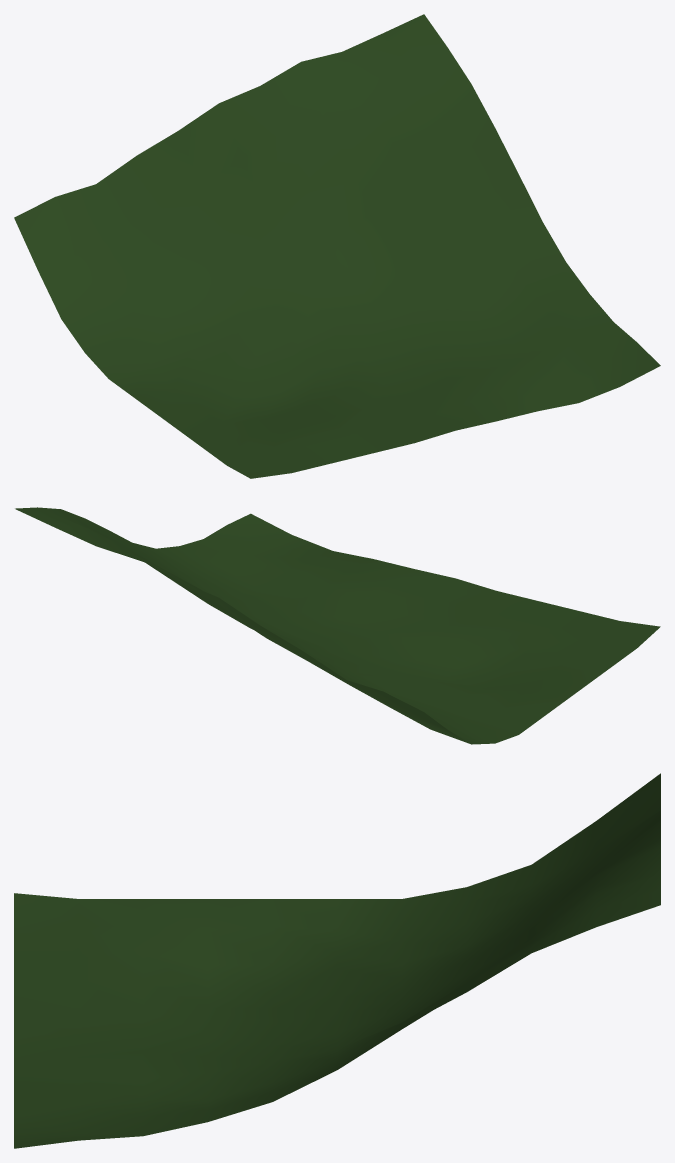
3 renders of one model, top to bottom at view 1: azimuth 30°, elevation 25°; view 2: azimuth 150°, elevation 25°; view 3: azimuth 270°, elevation 25°, orthographic. The views are drawn at different scales.
Parts seen in each view (by area): view 1: TerrainModel.017; view 2: TerrainModel.017; view 3: TerrainModel.017.
Part boxes in pixels (bbox=[...]): TerrainModel.017: bbox=[14, 14, 660, 478]; TerrainModel.017: bbox=[15, 507, 660, 744]; TerrainModel.017: bbox=[14, 773, 660, 1148].
Size of the model in its own units: 19608 by 9329 by 19608.
